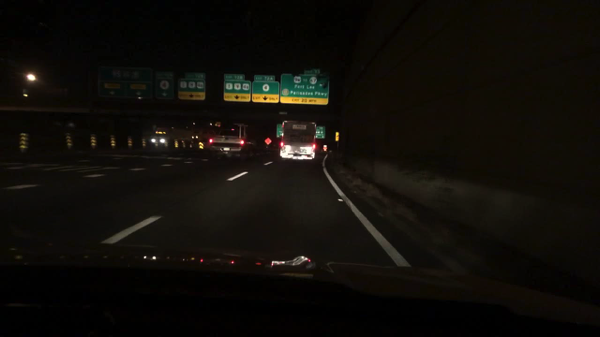car: (206, 126, 257, 160), (150, 131, 167, 147)
traffic sign: (280, 73, 330, 105), (98, 79, 153, 101), (98, 65, 152, 82), (276, 122, 326, 139), (223, 80, 252, 103), (177, 80, 207, 101), (252, 81, 279, 103), (155, 77, 174, 99), (224, 73, 246, 82), (184, 71, 206, 80), (254, 74, 276, 82), (21, 132, 29, 150), (155, 71, 173, 78), (65, 132, 73, 147), (305, 69, 320, 76), (90, 133, 97, 147), (110, 135, 116, 147), (264, 138, 274, 145), (335, 131, 341, 142), (127, 136, 133, 147), (198, 140, 205, 149), (174, 138, 180, 148), (141, 138, 147, 148), (322, 145, 327, 151), (234, 123, 244, 125), (238, 125, 247, 127)
truck: (279, 120, 318, 164)
